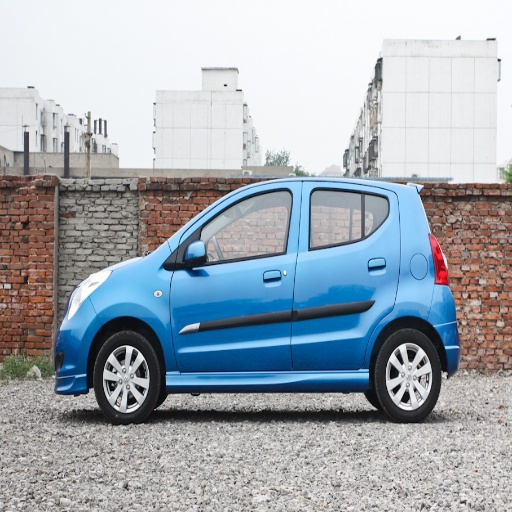back_left_door: (293, 185, 396, 369)
front_left_door: (171, 185, 295, 371)
